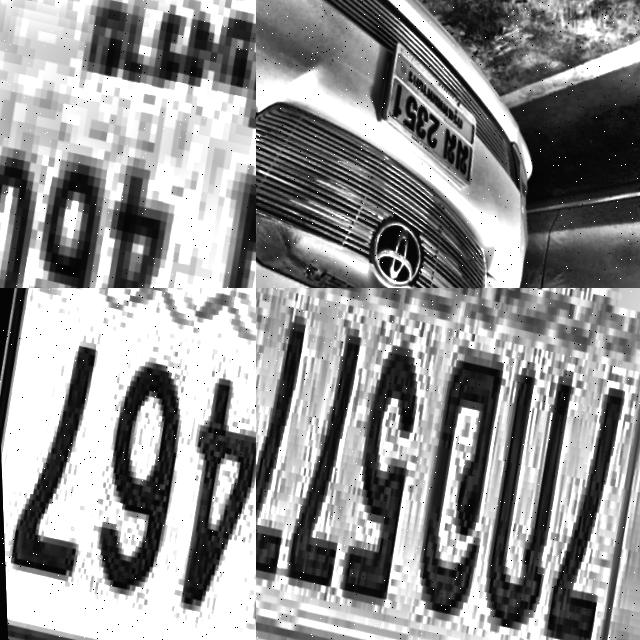license-plate: (256, 288, 640, 640), (0, 288, 256, 640), (0, 0, 256, 288), (365, 35, 493, 189)
